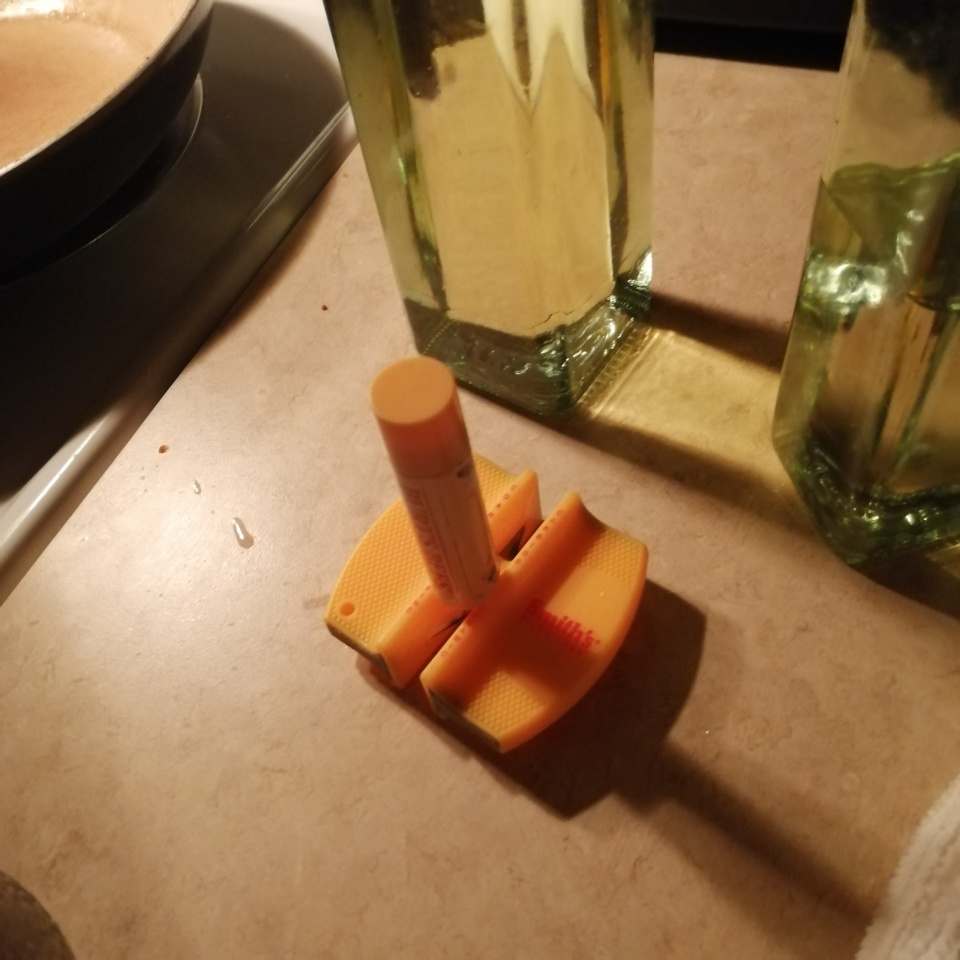chapstick: (371, 356, 501, 609)
